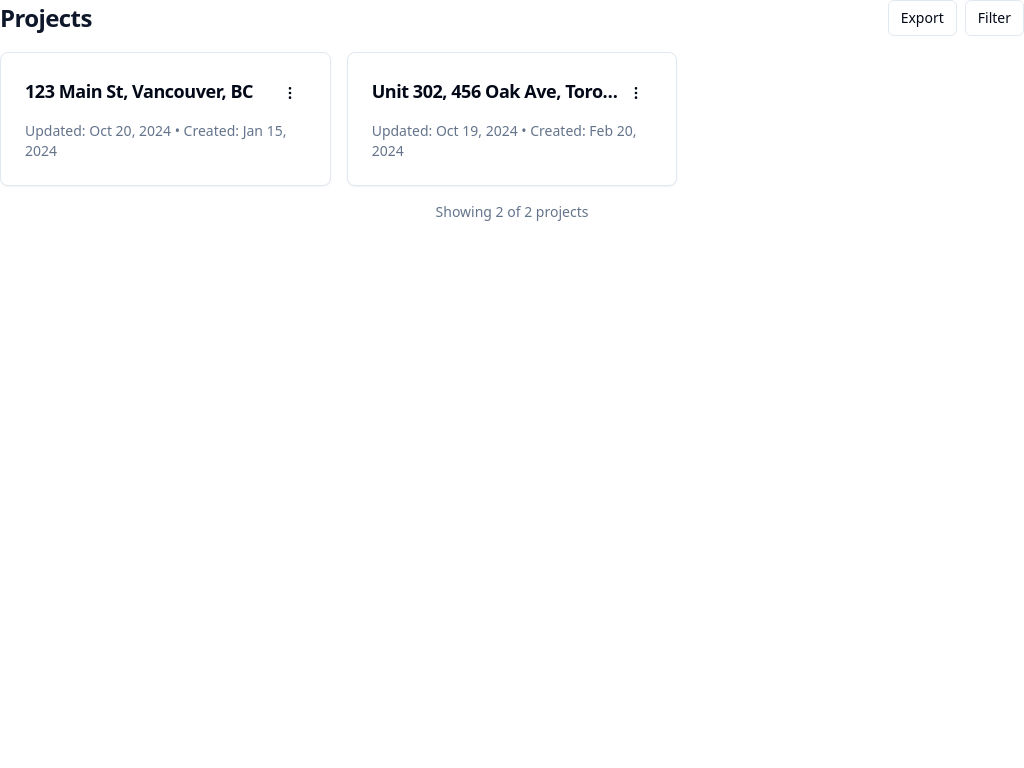
Scenario: ProjectsSection › Filter Functionality › closes filter sheet when Cancel button is clicked
Click the button "Filter" at (994, 18), box top-left (965, 0), bottom-right (1023, 36)
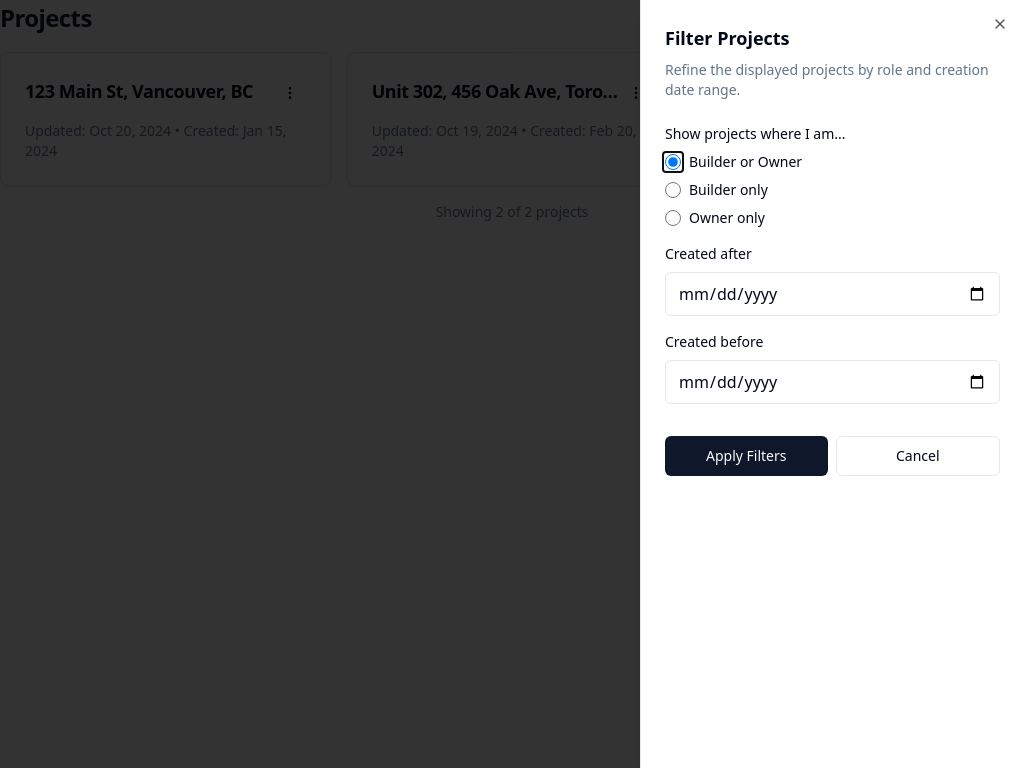
Now the button "Cancel" is shown
Click the button "Cancel" at (918, 456), box top-left (836, 436), bottom-right (1000, 476)
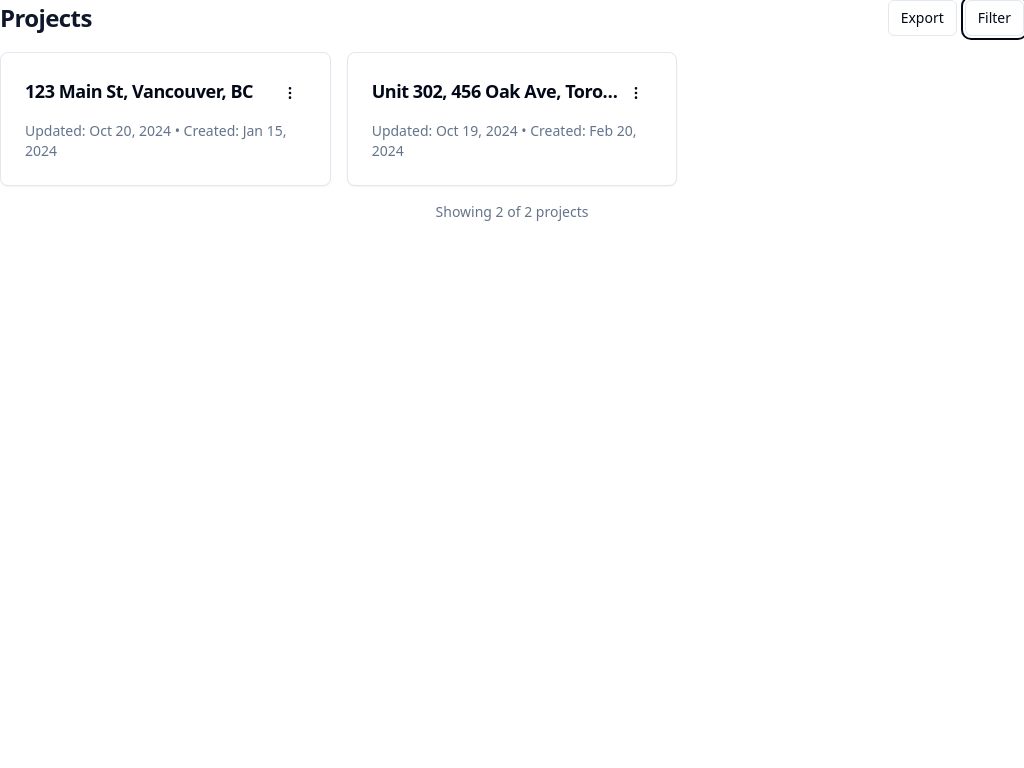
Now the heading "Filter Projects" is gone
